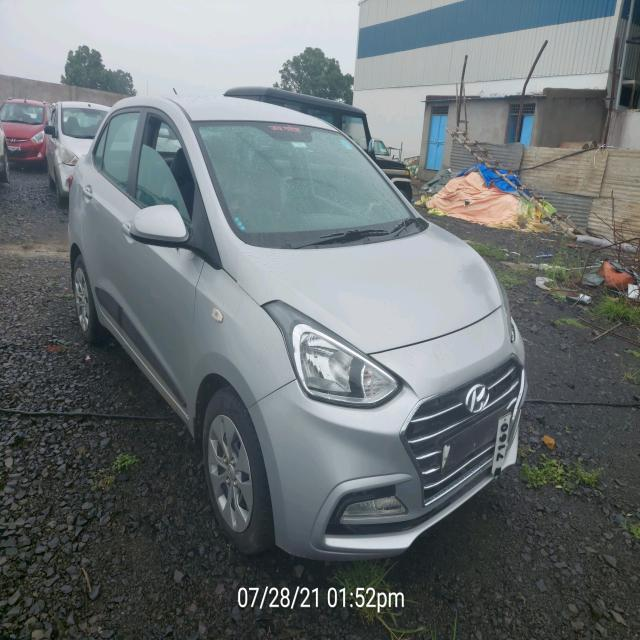damage: (484, 455, 511, 480), (435, 442, 455, 472)
